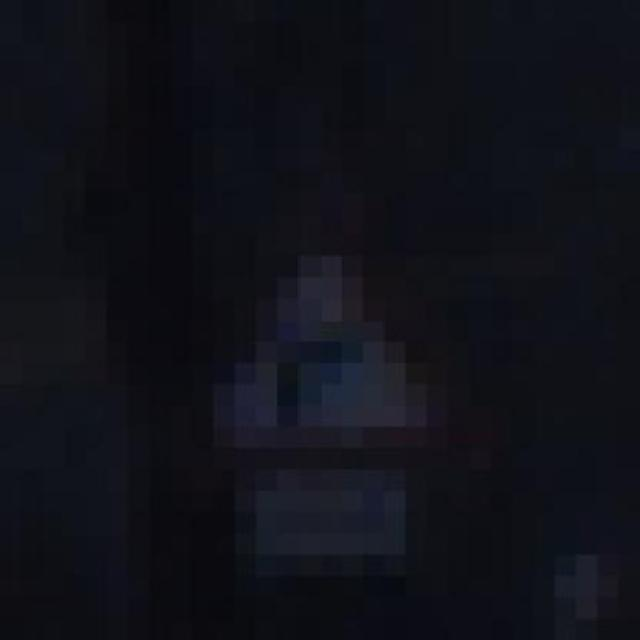Dangerous Rright Curve Ahead: (150, 213, 512, 512)
